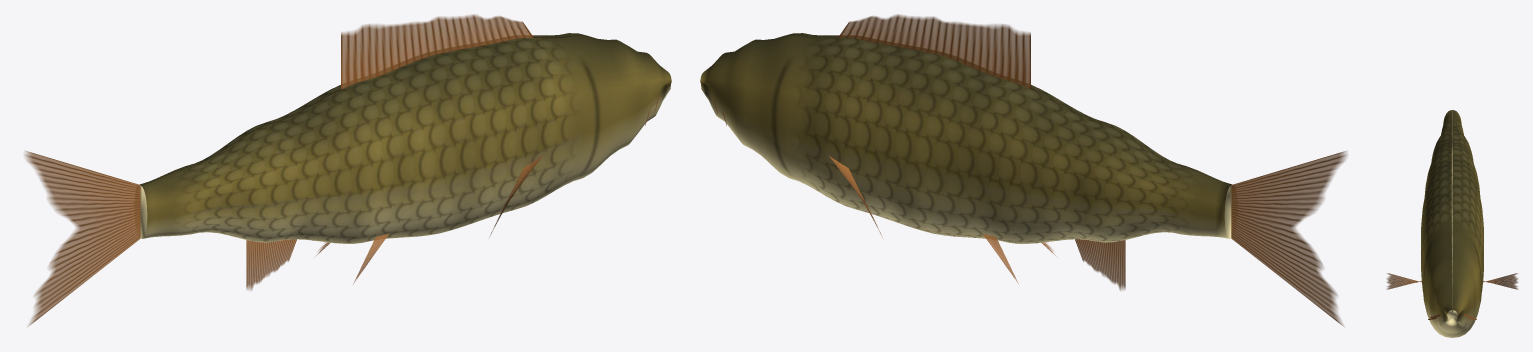
The model's file is sazan.glb.
The picture shows the model from 3 angles, left to right: view 1: azimuth 30°, elevation 25°; view 2: azimuth 150°, elevation 25°; view 3: azimuth 270°, elevation 25°; orthographic projection. The views are drawn at different scales.
Parts seen in each view (by area): view 1: sazan; view 2: sazan; view 3: sazan.
Boxes of the visible parts, bbox=[...] form: sazan: bbox=[24, 14, 671, 326]; sazan: bbox=[700, 14, 1347, 326]; sazan: bbox=[1386, 110, 1518, 337].
Size of the model in its own units: 0.62 by 0.2228 by 0.1483.
Materials: 1 (1 with a texture image).
